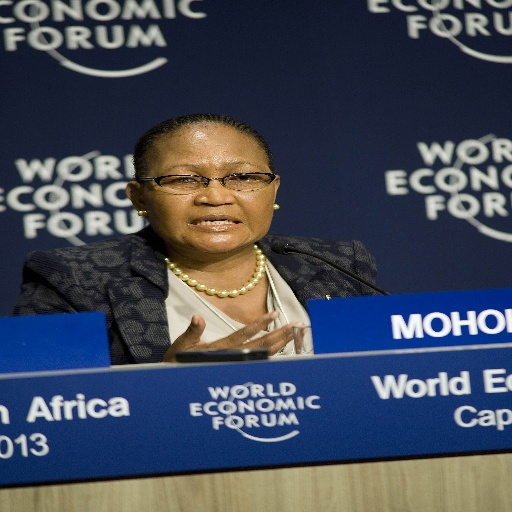hand: (142, 319, 293, 358)
